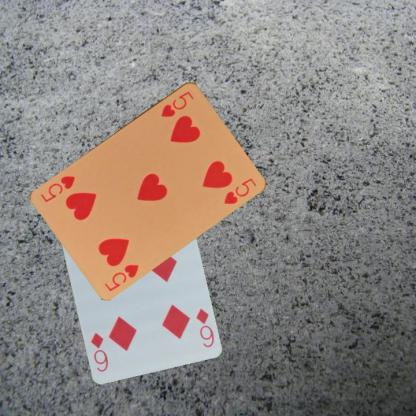5h: (102, 262, 140, 292), (158, 89, 195, 118)
6d: (193, 306, 215, 348)
